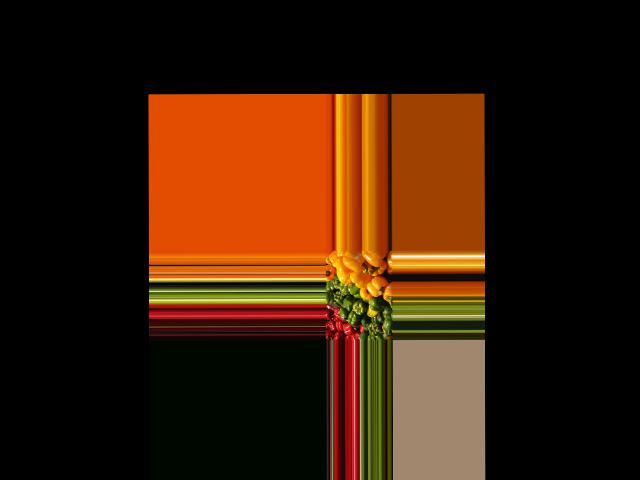bell_pepper: (381, 323, 393, 339)
